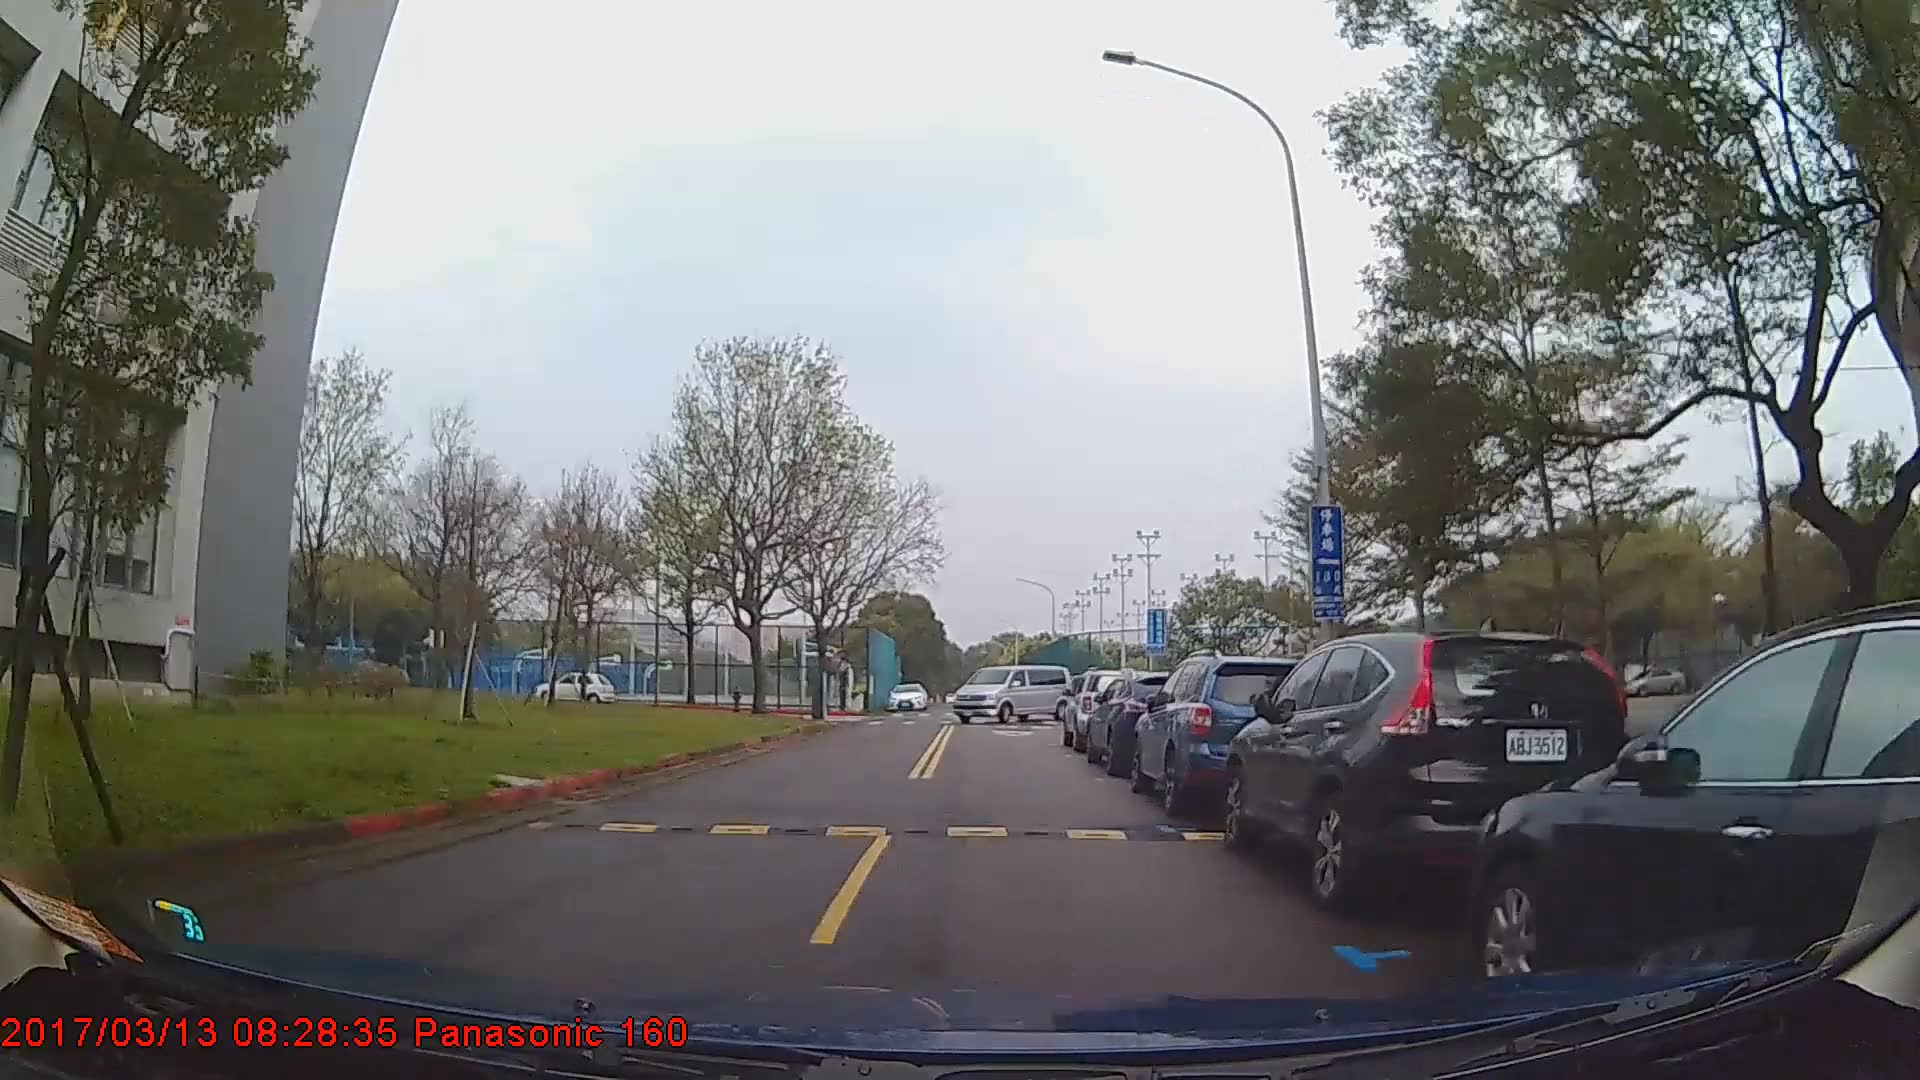vehicle: (1468, 597, 1920, 1022), (1221, 626, 1635, 916), (1127, 651, 1320, 815), (1084, 670, 1205, 775), (953, 663, 1073, 723), (534, 667, 615, 705), (886, 682, 928, 712)
